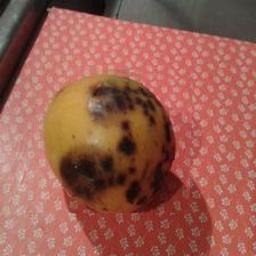Mango Rotten: (28, 65, 193, 214)
